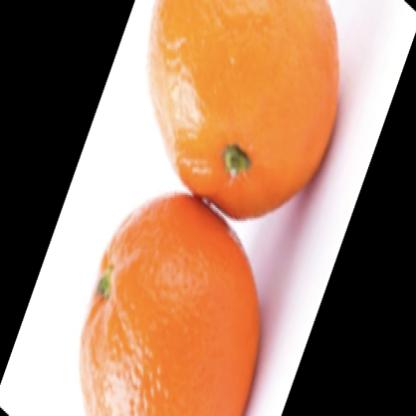fresh: (83, 1, 338, 416)
